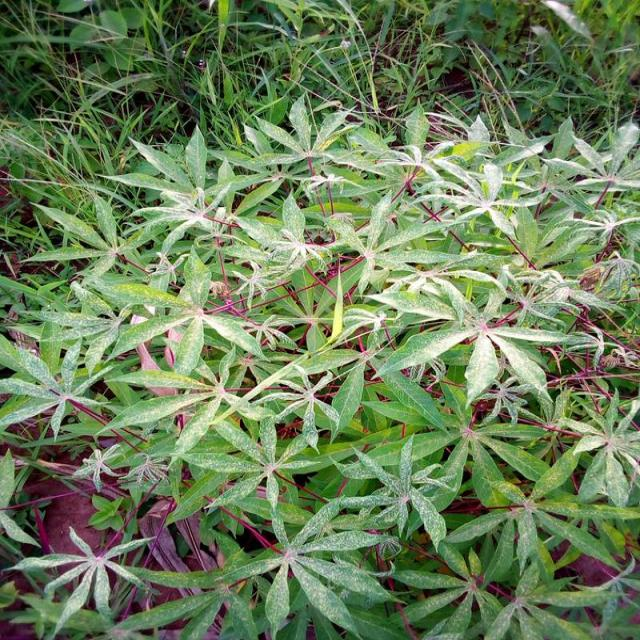cassava leaf: (1, 92, 638, 638)
